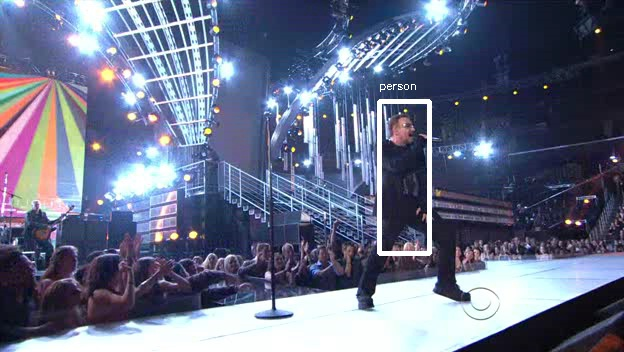person: (372, 115, 440, 238), (369, 115, 437, 238), (375, 115, 443, 238), (372, 112, 440, 235), (372, 118, 440, 241)
target_negative: (272, 169, 479, 333), (226, 281, 541, 311), (412, 249, 474, 334), (411, 303, 526, 321), (85, 342, 263, 348), (440, 317, 452, 347)
